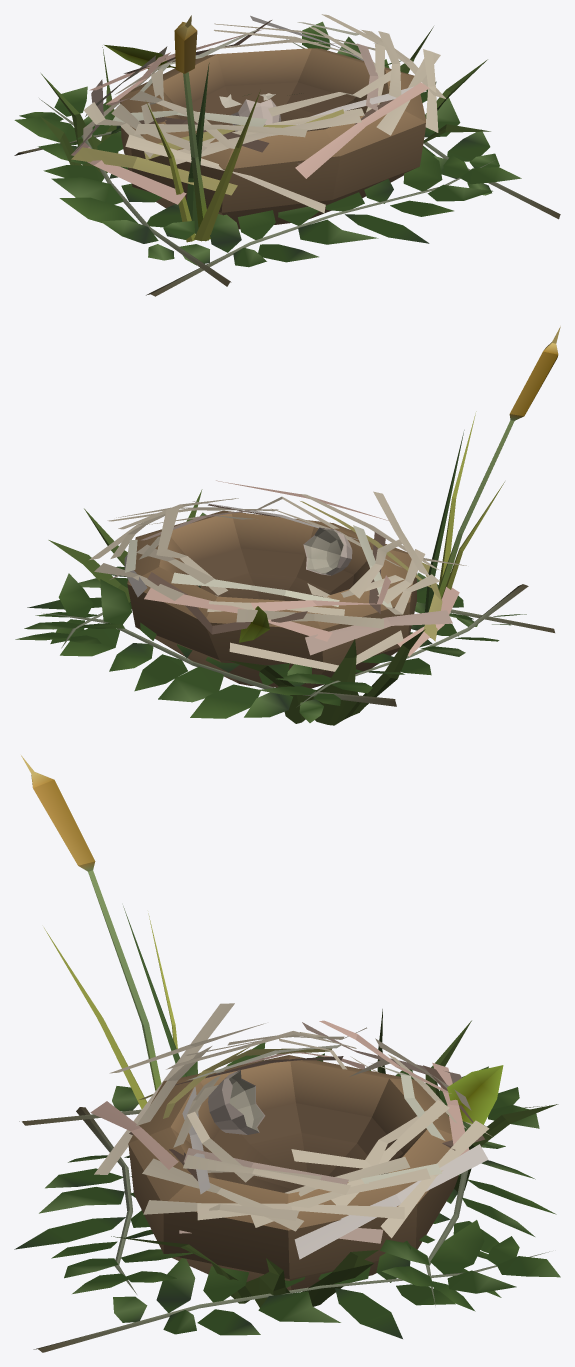
3 views of the same model, one above another, from view 1: azimuth 30°, elevation 25°; view 2: azimuth 150°, elevation 25°; view 3: azimuth 270°, elevation 25° (orthographic). The views are drawn at different scales.
Parts seen in each view (by area): view 1: nestStage_4; view 2: nestStage_4; view 3: nestStage_4.
Part boxes in pixels (x1,y1,x2,y2): nestStage_4: (14, 14, 560, 296); nestStage_4: (15, 326, 560, 725); nestStage_4: (14, 755, 560, 1352).
Bounding box in the file's own units: 1.83 × 1.26 × 1.62.
